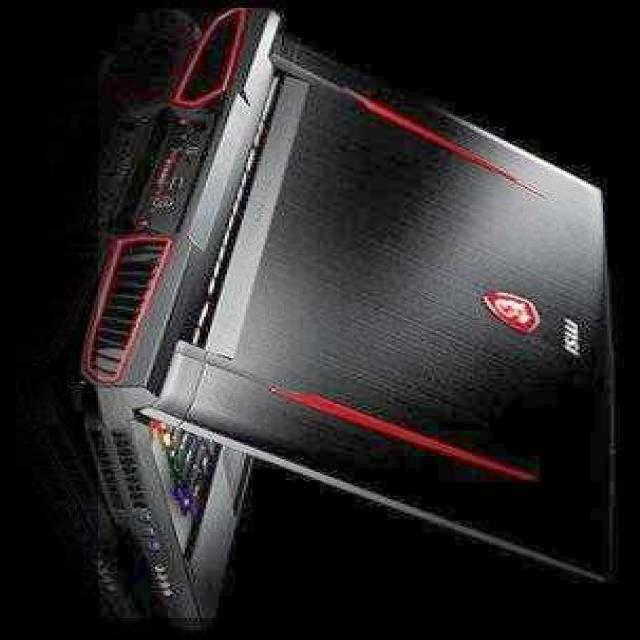-keyboard-: (99, 8, 618, 618)
